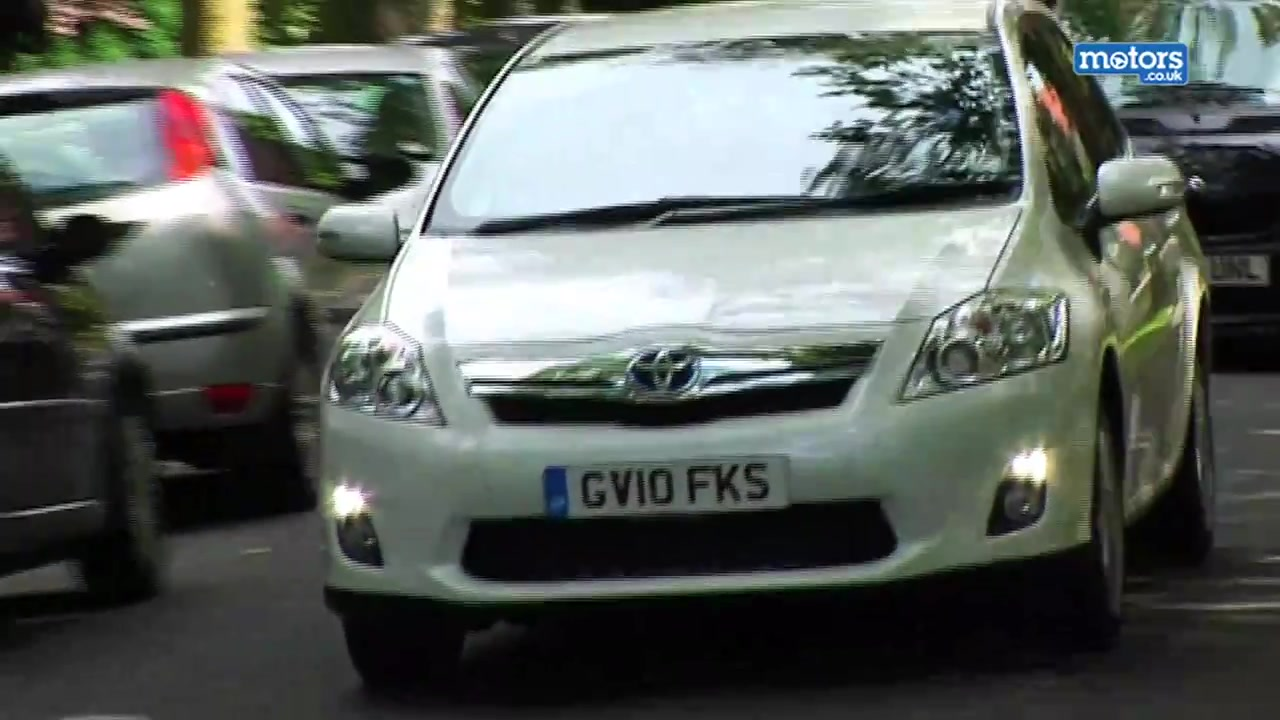car: (311, 5, 1224, 696), (4, 61, 402, 494), (1, 106, 175, 625), (218, 36, 481, 297), (1107, 1, 1280, 368)
